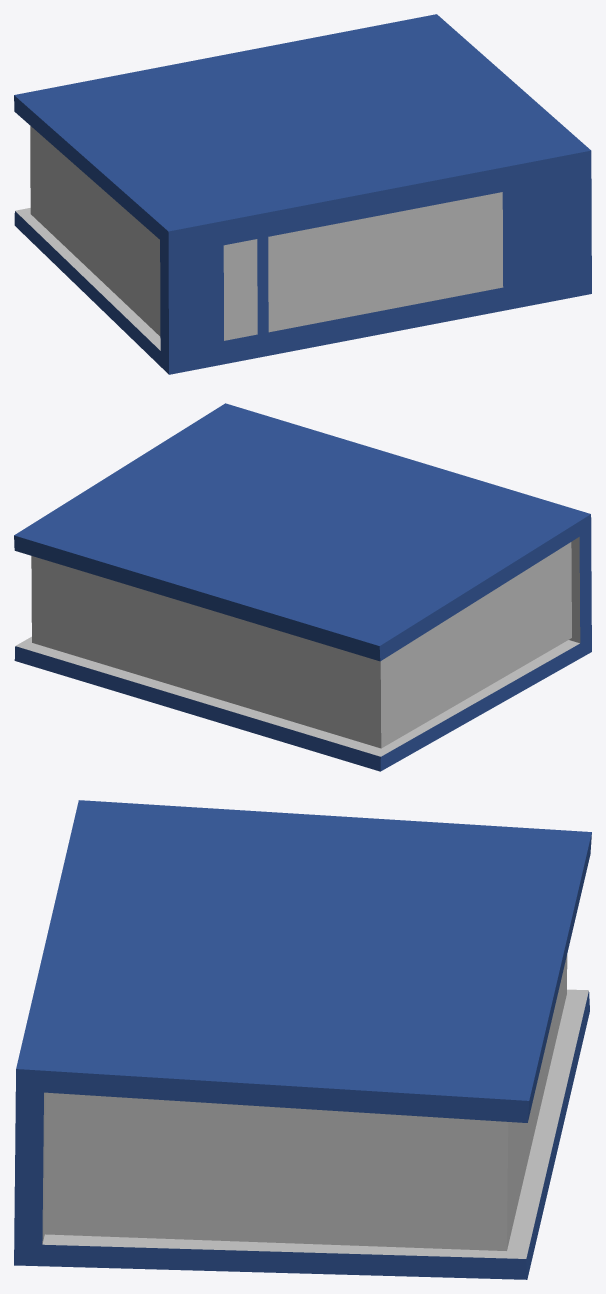
Rendered from SM_Book_06.fbx.
3 views of the same model, one above another, from view 1: azimuth 30°, elevation 25°; view 2: azimuth 150°, elevation 25°; view 3: azimuth 270°, elevation 25° (orthographic). The views are drawn at different scales.
Parts seen in each view (by area): view 1: SM_Book_06; view 2: SM_Book_06; view 3: SM_Book_06.
Boxes of the visible parts, x1,y1,x2,y2 form: SM_Book_06: [14, 14, 591, 374]; SM_Book_06: [14, 403, 591, 771]; SM_Book_06: [14, 800, 591, 1279].
Size of the model in its own units: 46.7 by 14.75 by 39.29.
Materials: 1 (1 with a texture image).
